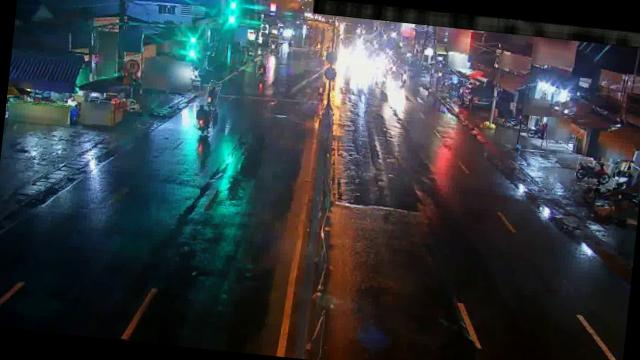Bike: (574, 158, 618, 190), (193, 103, 214, 136), (205, 81, 220, 106), (255, 59, 268, 80), (401, 67, 410, 86)
